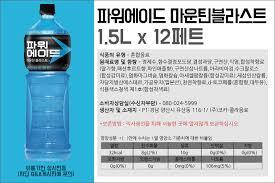powerade_mountainblast: (16, 0, 83, 162)
